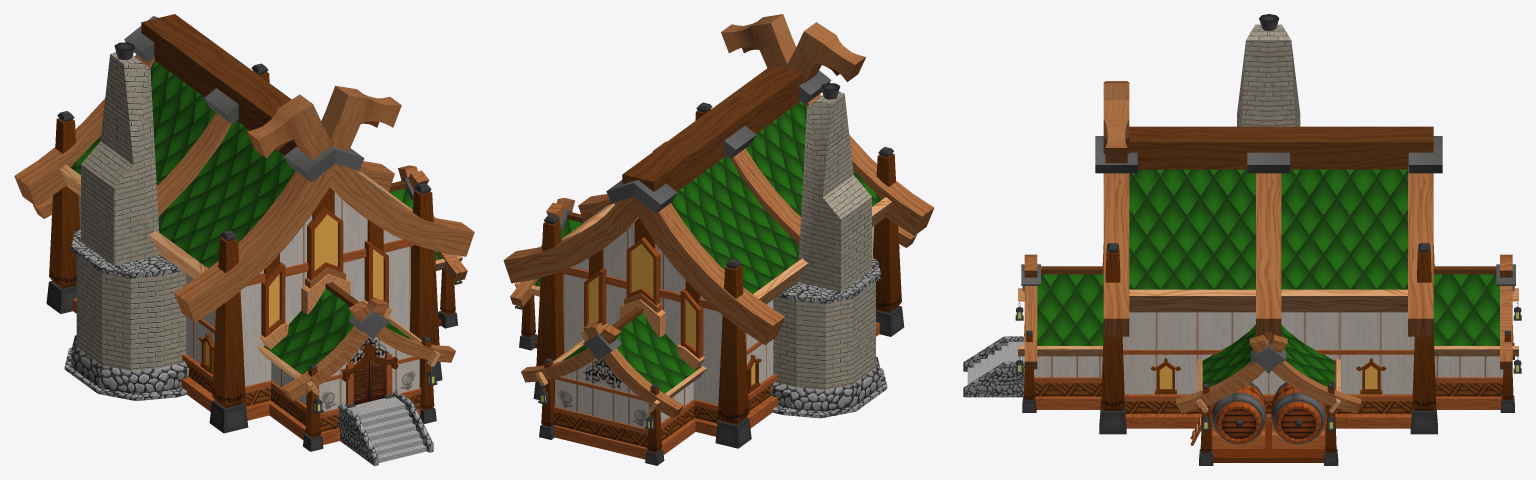
File: 선술집 1.fbx
3 views of the same model, side by side, from view 1: azimuth 30°, elevation 25°; view 2: azimuth 150°, elevation 25°; view 3: azimuth 270°, elevation 25° (orthographic). The views are drawn at different scales.
Parts seen in each view (by area): view 1: Base, Wall,Roof; view 2: Wall,Roof, Base; view 3: Wall,Roof, Base.
Part boxes in pixels (x1,y1,x2,y2): Base: [14, 14, 474, 465]; Wall,Roof: [64, 52, 441, 444]; Wall,Roof: [534, 91, 887, 459]; Base: [503, 14, 934, 465]; Wall,Roof: [1034, 24, 1503, 462]; Base: [963, 14, 1521, 465].
Size of the model in its own units: 282 by 252 by 412.
Materials: 2 (2 with a texture image).
